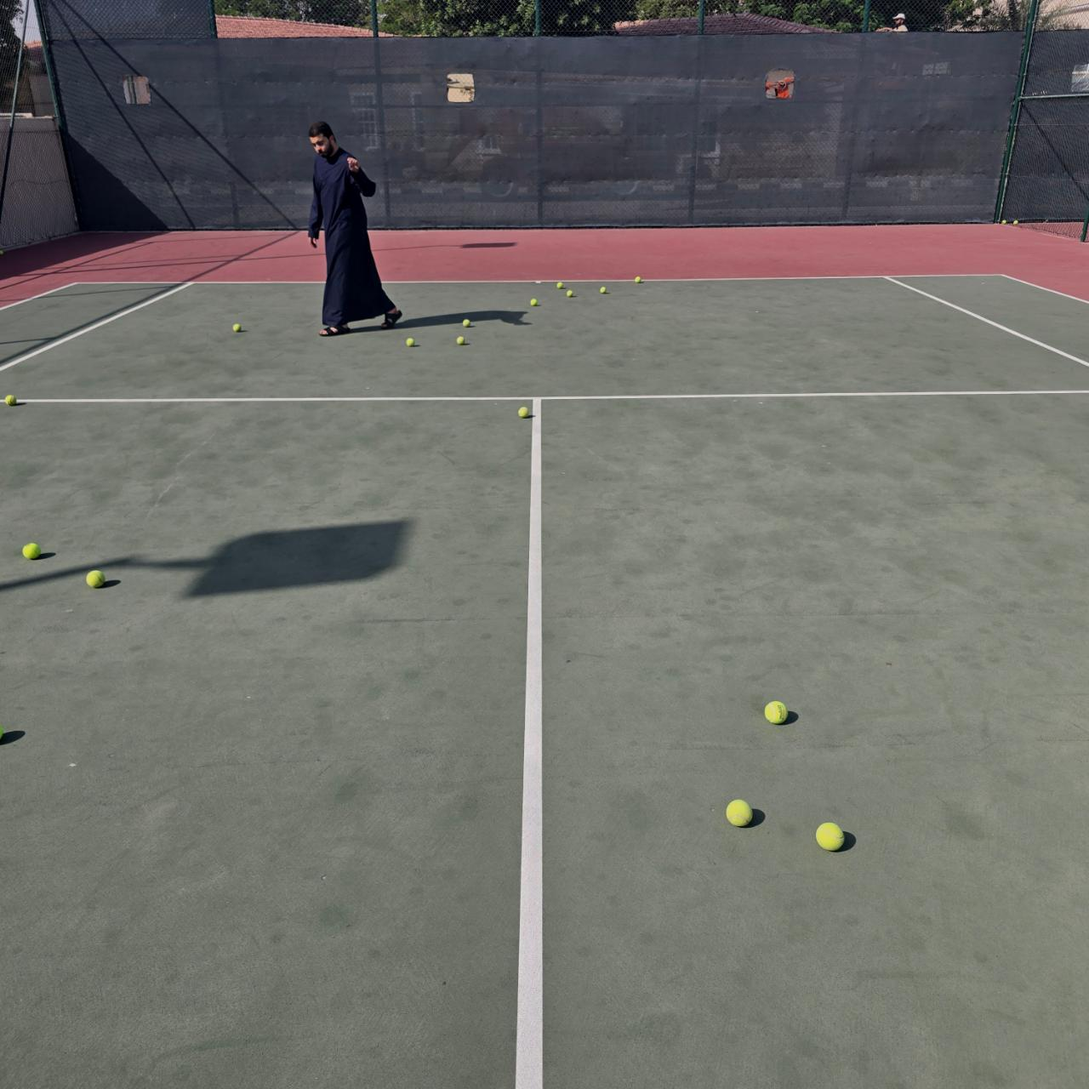tennis-ball: (815, 819, 846, 851), (726, 796, 754, 827), (764, 698, 789, 724), (87, 567, 105, 588), (24, 540, 42, 559), (231, 321, 244, 333), (517, 407, 530, 419), (5, 394, 17, 406), (456, 336, 465, 345), (406, 338, 415, 347), (462, 319, 470, 327), (556, 282, 563, 290), (530, 299, 537, 306), (600, 287, 607, 294), (567, 290, 573, 298), (635, 277, 641, 283), (1013, 220, 1018, 225), (1001, 220, 1006, 224)
